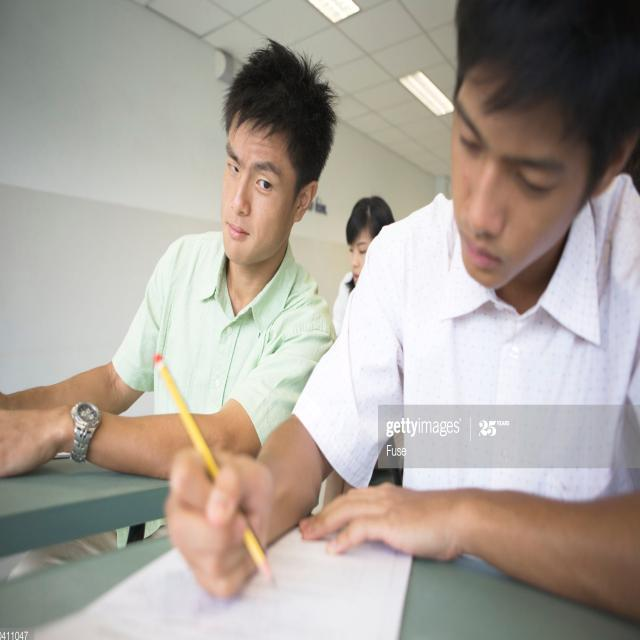cheating: (172, 26, 355, 309)
